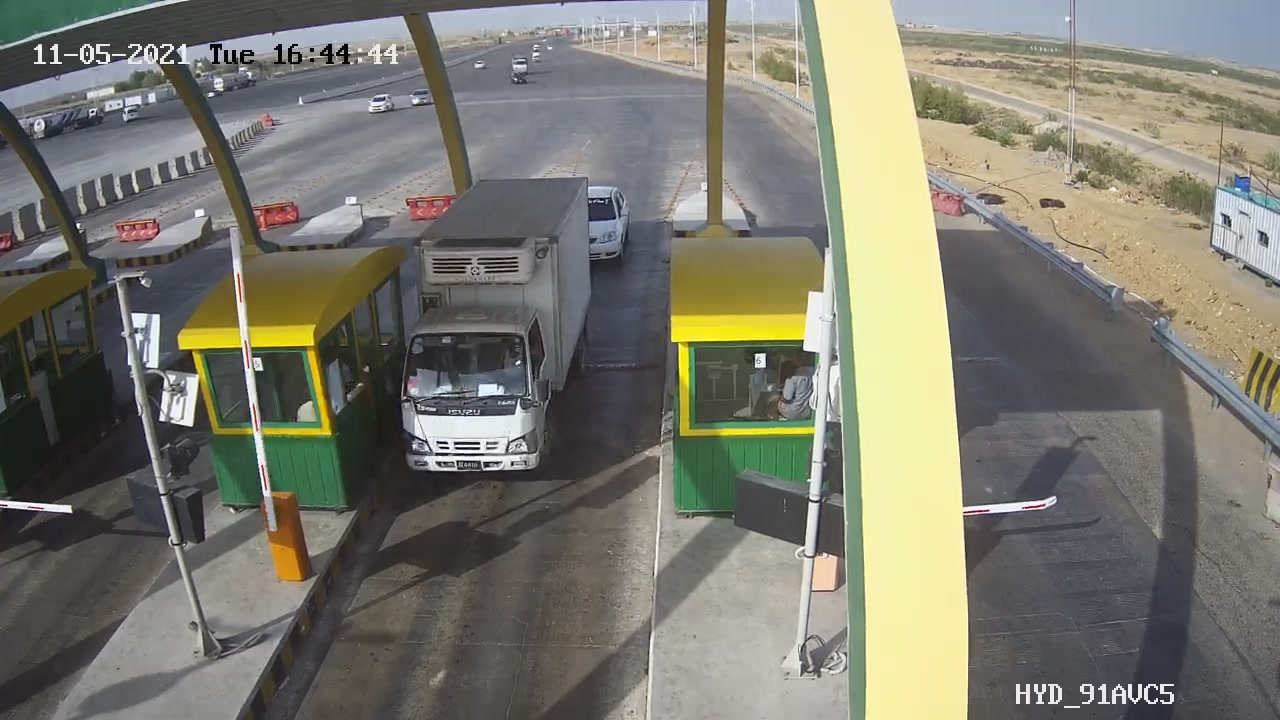F5: (368, 164, 614, 493)
